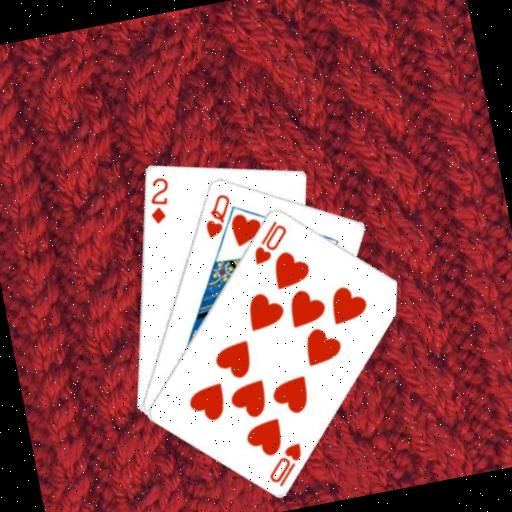10H: (260, 439, 310, 490), (245, 216, 294, 267)
2D: (141, 173, 177, 227)
QH: (197, 189, 239, 241)
